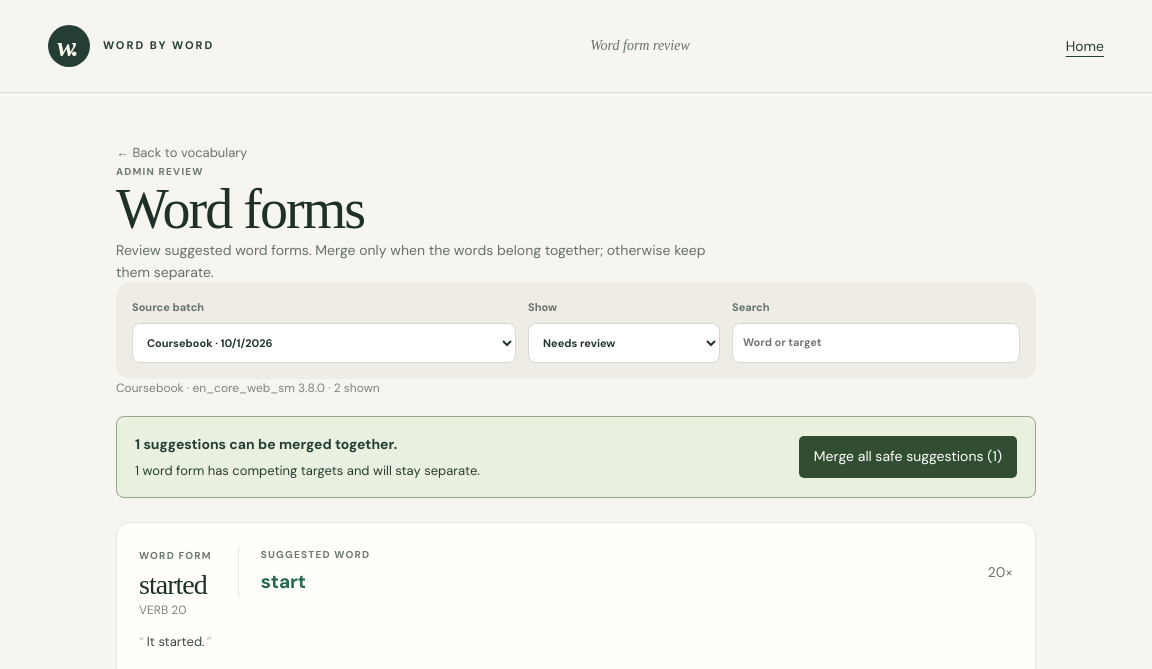
vocabulary lemma review › offers one bulk action for safe suggestions and leaves review-required forms untouched
Expected: the text "1 word form has competing targets and will stay separate." is shown, [135,460,480,481]
Click the button "Merge all safe suggestions (1)" at x=908, y=457, box [799,436,1017,478]
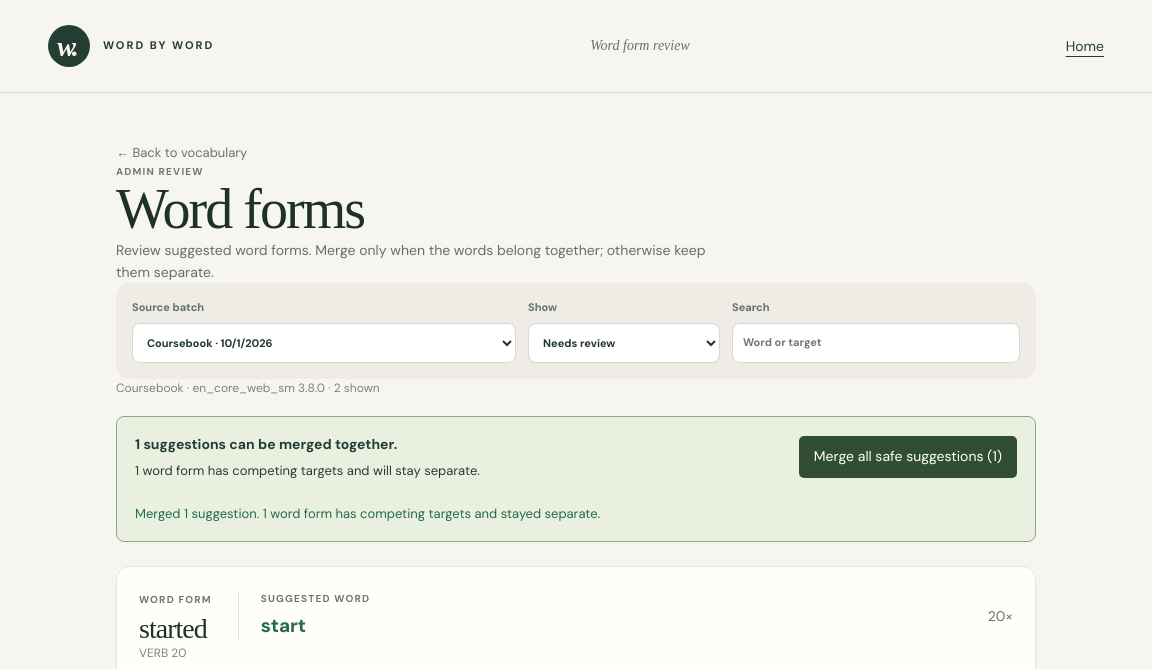
Result: the message reads "Merged 1 suggestion. 1 word form has competing targets and stayed separate." at [135,505,600,522]
